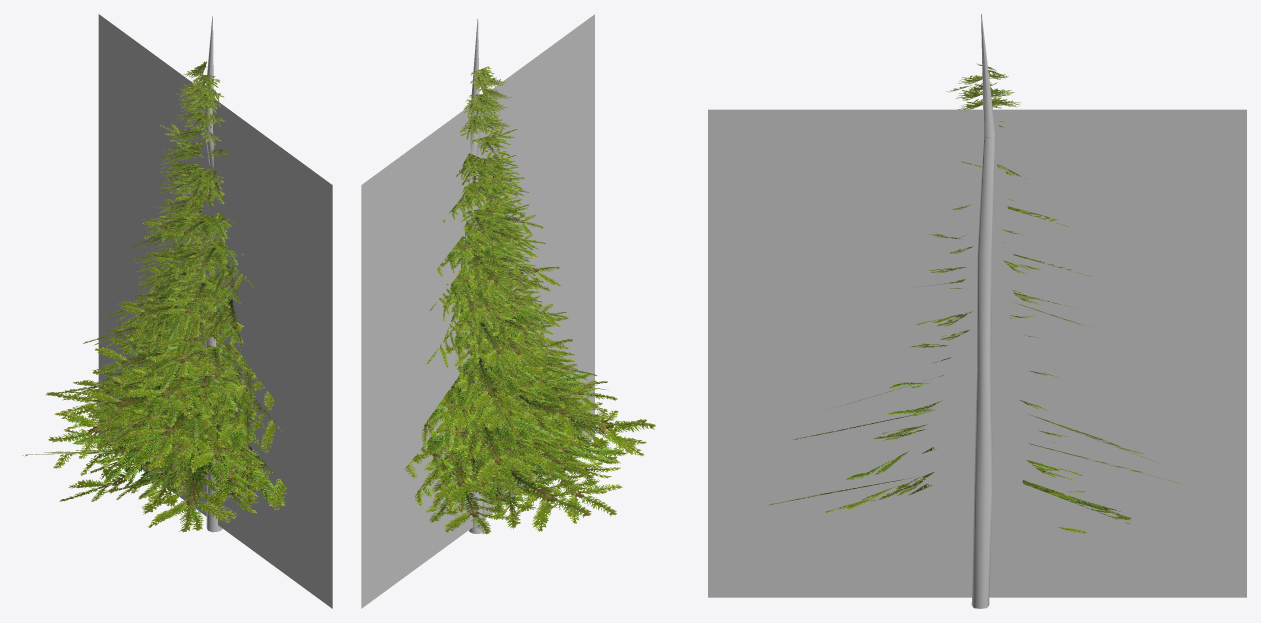
File: HalfFirTree.fbx
3 renders of one model, left to right at view 1: azimuth 30°, elevation 25°; view 2: azimuth 150°, elevation 25°; view 3: azimuth 270°, elevation 25°, orthographic. The views are drawn at different scales.
Visible parts, largest first — view 1: Quad, FirTreeBranches.001, Trunk.001; view 2: Quad, FirTreeBranches.001, Trunk.001; view 3: Quad, Trunk.001, FirTreeBranches.001.
Part boxes in pixels (left/top/right/bottom): Quad: left=98, top=14, right=332, bottom=608; FirTreeBranches.001: left=22, top=61, right=287, bottom=532; Trunk.001: left=203, top=16, right=222, bottom=532; Quad: left=361, top=14, right=594, bottom=608; FirTreeBranches.001: left=404, top=66, right=655, bottom=534; Trunk.001: left=469, top=19, right=484, bottom=533; Quad: left=708, top=109, right=1246, bottom=597; Trunk.001: left=971, top=14, right=994, bottom=608; FirTreeBranches.001: left=768, top=63, right=1181, bottom=533.
Bounding box in the file's own units: 358 × 800 × 661.
